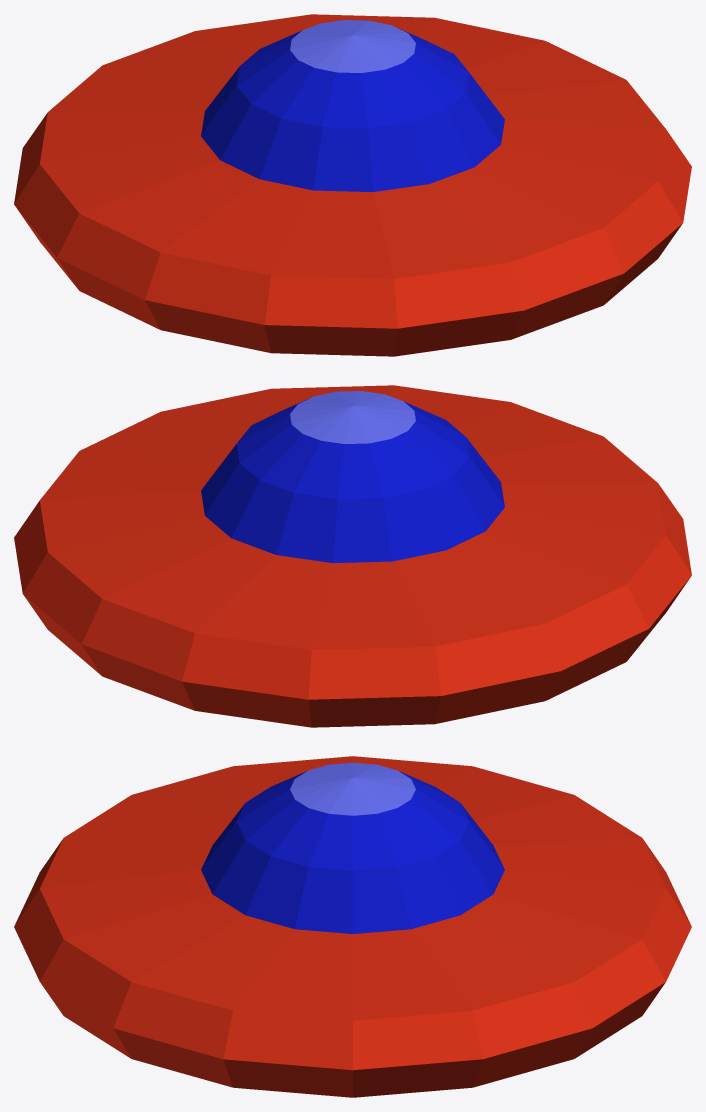
Rendered from enemy_ship_ufo.fbx.
3 renders of one model, top to bottom at view 1: azimuth 30°, elevation 25°; view 2: azimuth 150°, elevation 25°; view 3: azimuth 270°, elevation 25°, orthographic.
Visible parts, largest first — view 1: enemy_ship_ufo.001; view 2: enemy_ship_ufo.001; view 3: enemy_ship_ufo.001.
Part boxes in pixels (x1,y1,x2,y2): enemy_ship_ufo.001: [14, 14, 691, 356]; enemy_ship_ufo.001: [14, 385, 691, 727]; enemy_ship_ufo.001: [14, 756, 691, 1097].
Size of the model in its own units: 206 by 88.03 by 206.
